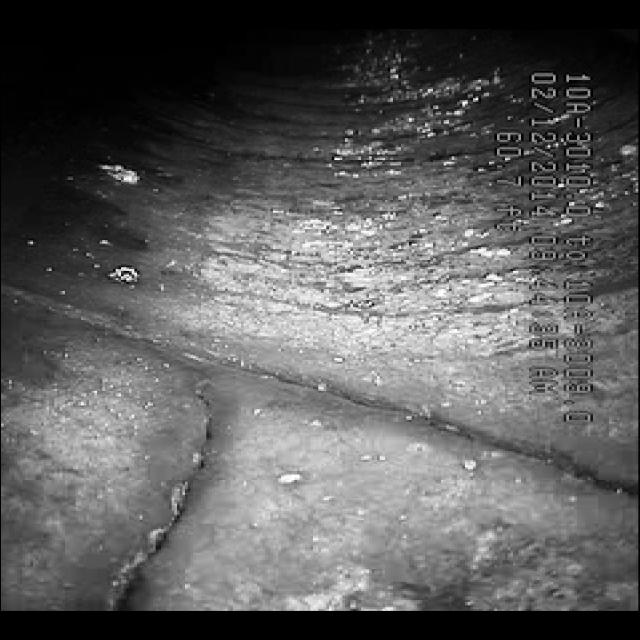Crack: (103, 333, 497, 539)
